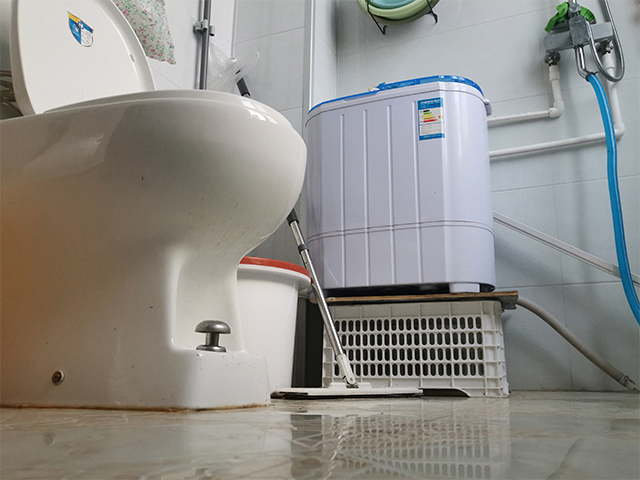closestool: (1, 1, 310, 413)
